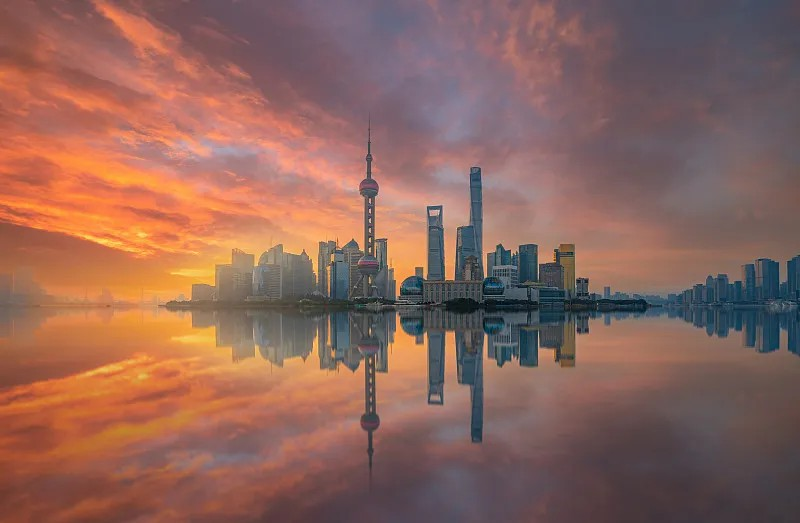Oriental: (349, 111, 382, 300)
